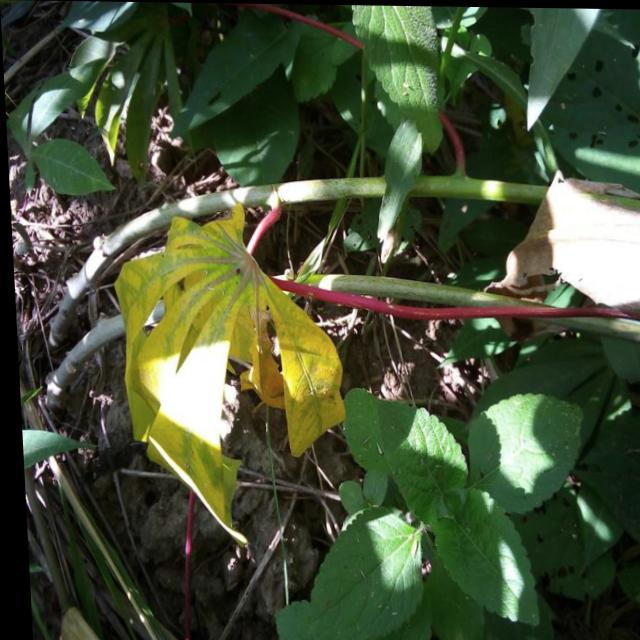Maleza: (353, 373, 640, 617)
Mosaico: (147, 195, 334, 493)
